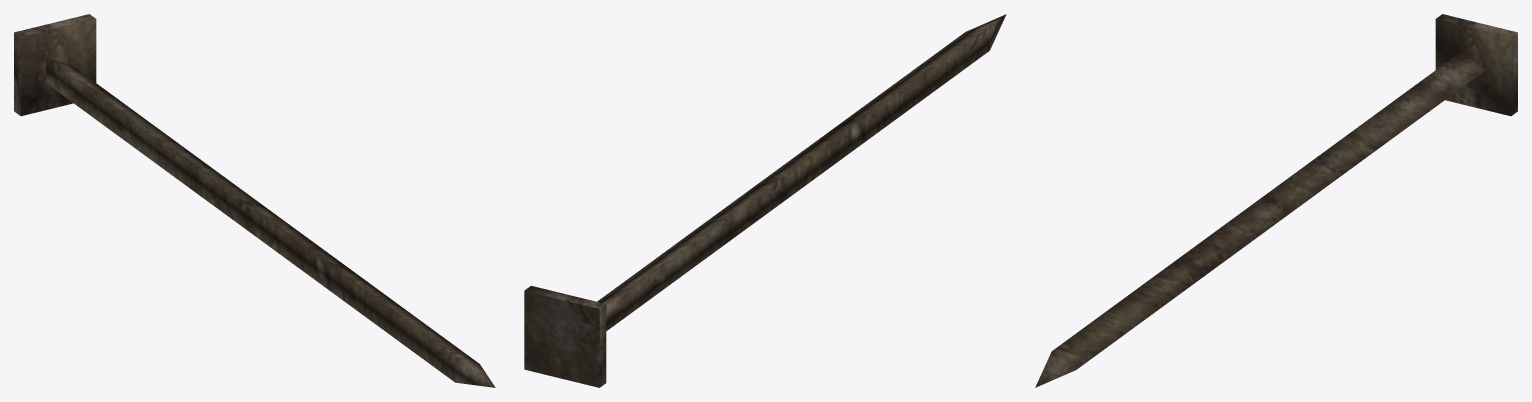
Rendered from TI_Nail_01.fbx.
The picture shows the model from 3 angles, left to right: view 1: azimuth 30°, elevation 25°; view 2: azimuth 150°, elevation 25°; view 3: azimuth 330°, elevation 25°; orthographic projection.
Visible parts, largest first — view 1: TI_Nail_01; view 2: TI_Nail_01; view 3: TI_Nail_01.
Part boxes in pixels (left/top/right/bottom): TI_Nail_01: left=14, top=14, right=495, bottom=387; TI_Nail_01: left=524, top=14, right=1006, bottom=387; TI_Nail_01: left=1035, top=14, right=1517, bottom=387.
Size of the model in its own units: 0.0497 by 0.0497 by 0.5067.
